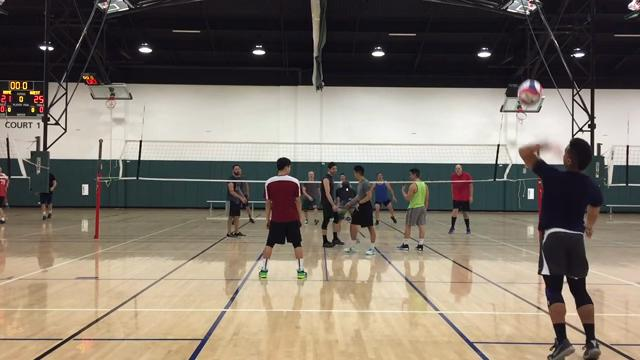battuta: (513, 130, 604, 359)
